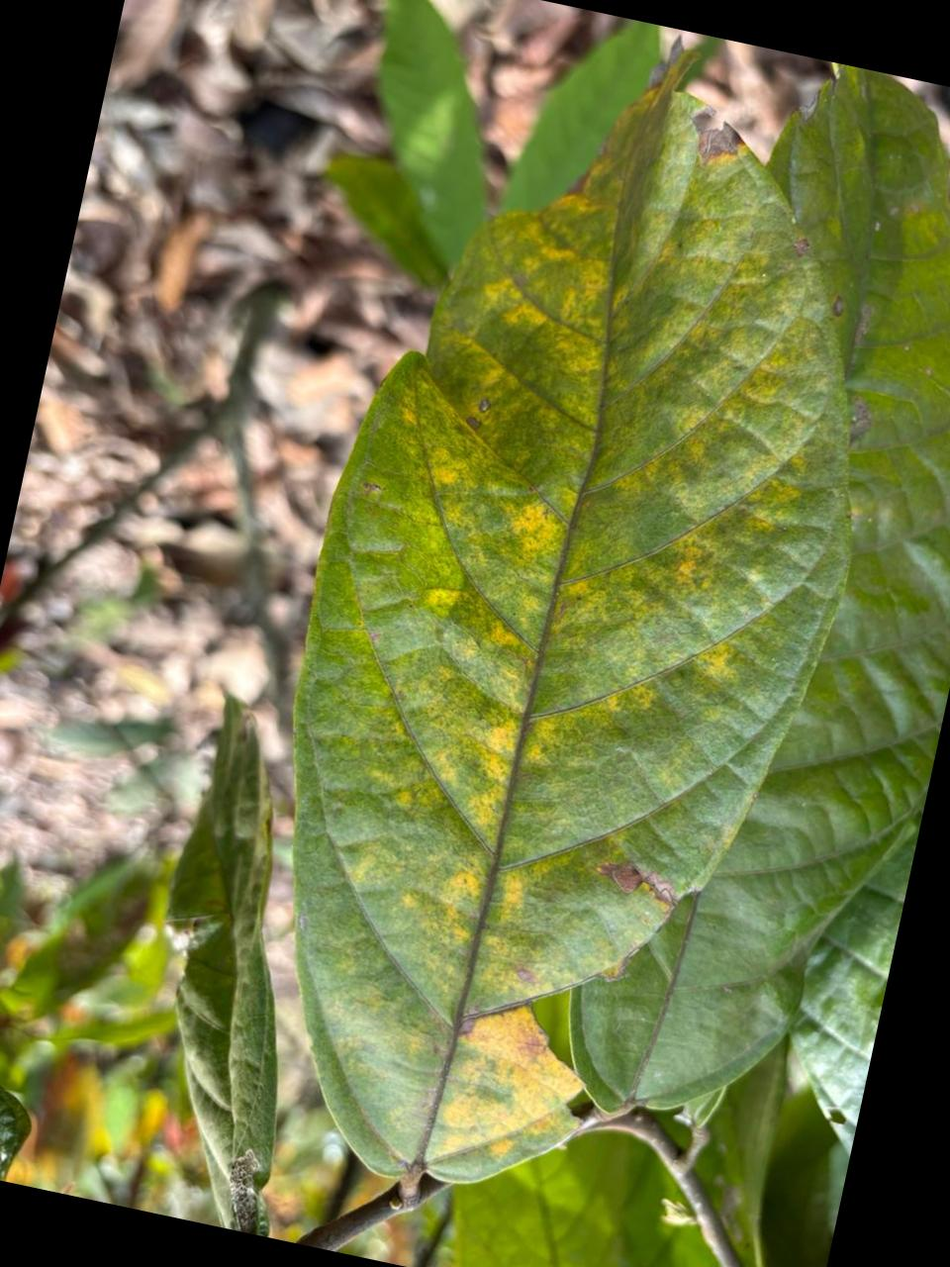Fosforo: (294, 64, 847, 1189)
